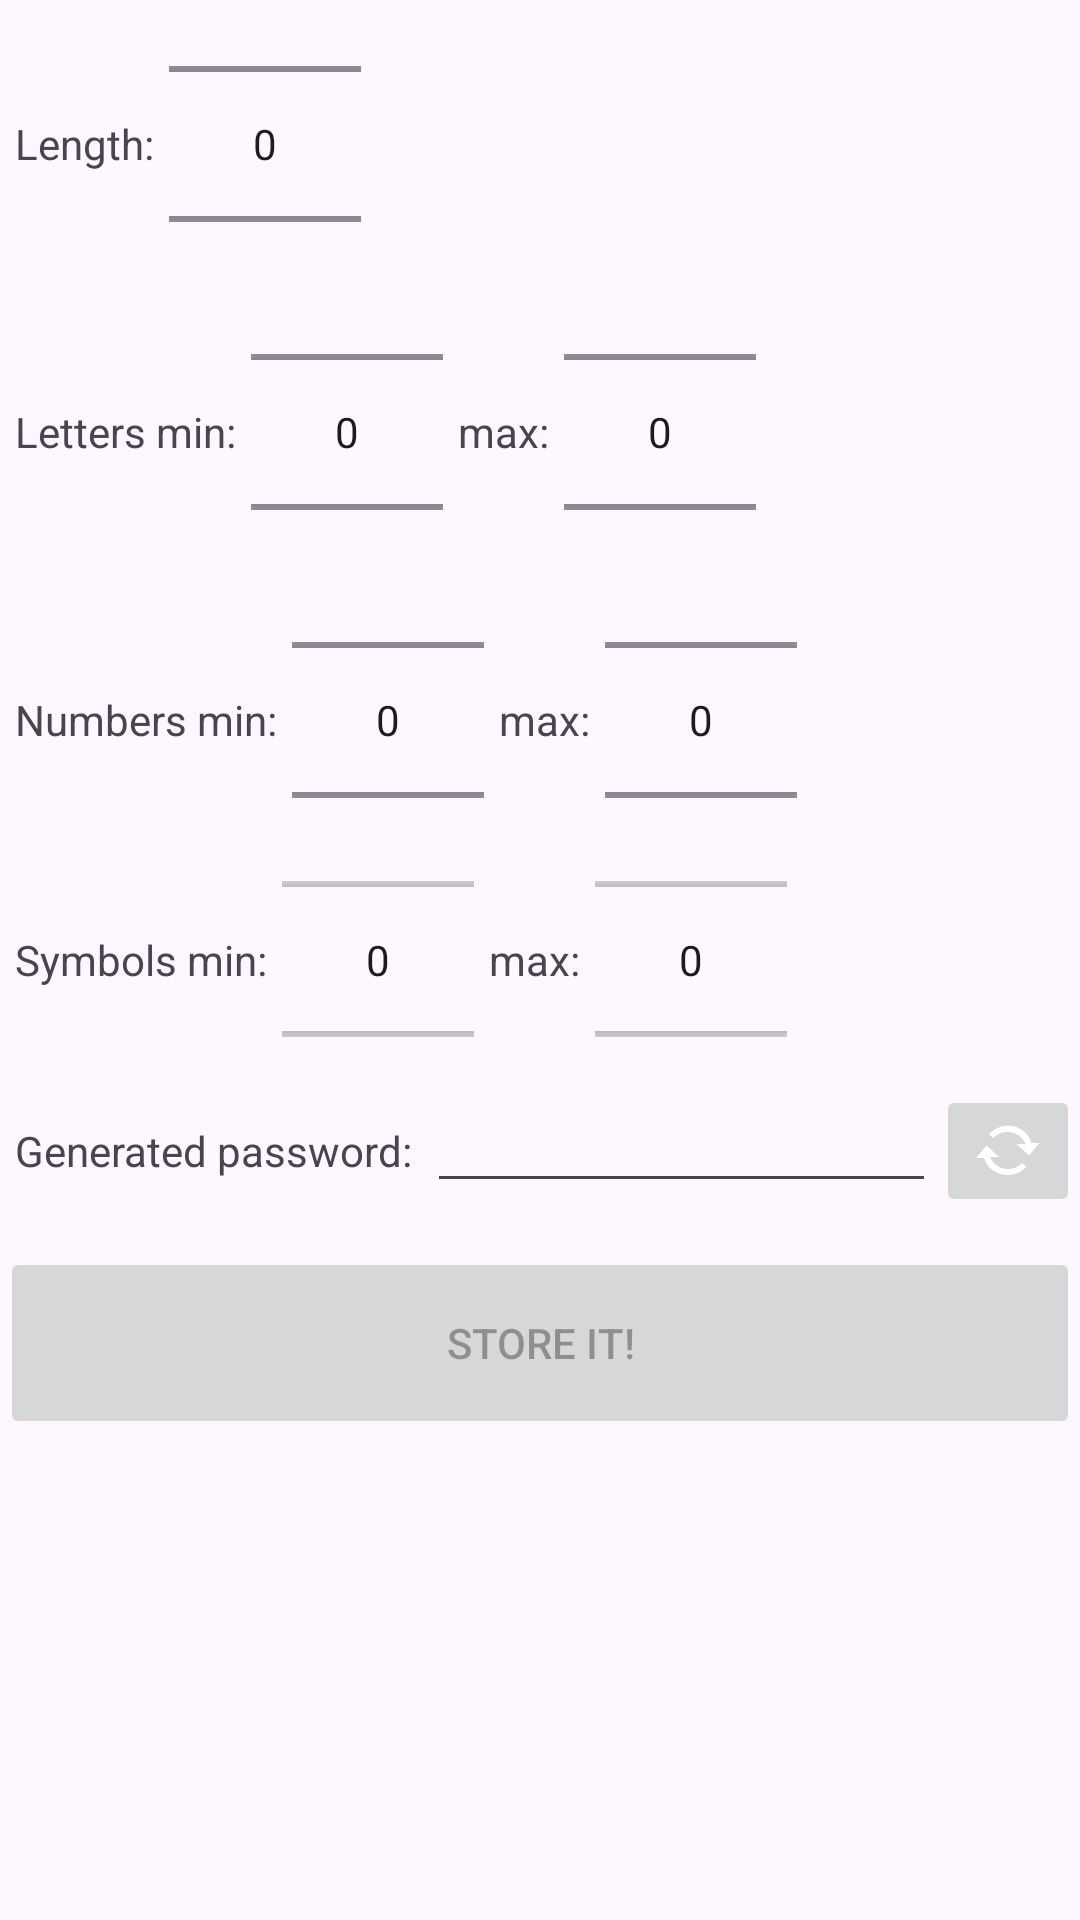

Locate icon controls on the screen. Image size 1080*1920, boxes as {"left": x1, "top": y1, "right": x2, "bottom": y2}.
sync noanim: {"left": 948, "top": 1103, "right": 1068, "bottom": 1199}
